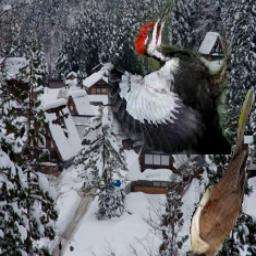Cuckoo: (186, 89, 255, 256)
Woodpecker: (109, 0, 232, 156)
